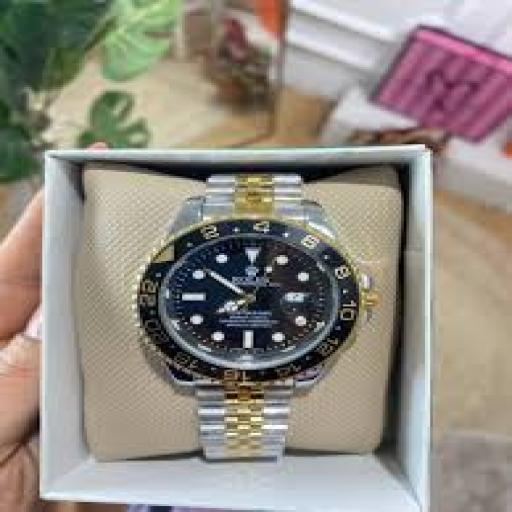KolSaati: (100, 158, 404, 478)
